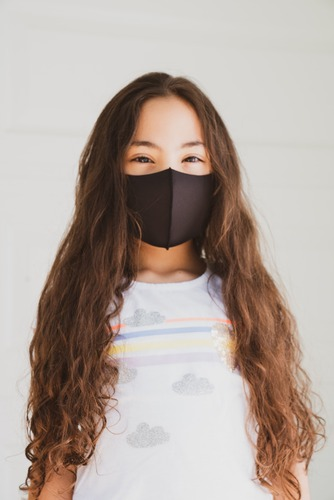with_mask: (116, 122, 214, 246)
